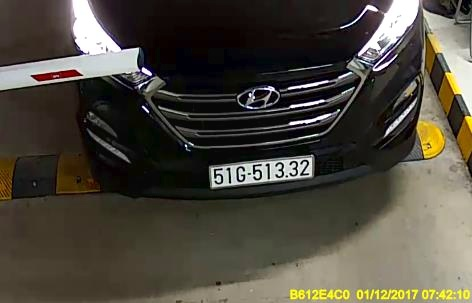plate: (207, 156, 317, 190)
